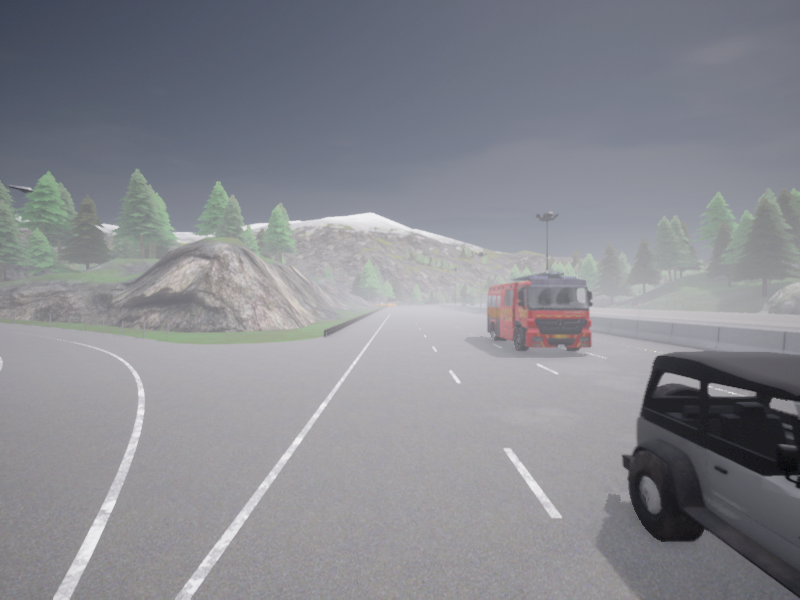vehicle: (622, 350, 799, 597), (487, 272, 592, 351), (471, 303, 475, 305), (460, 303, 464, 305), (464, 303, 468, 304), (478, 303, 479, 304)
